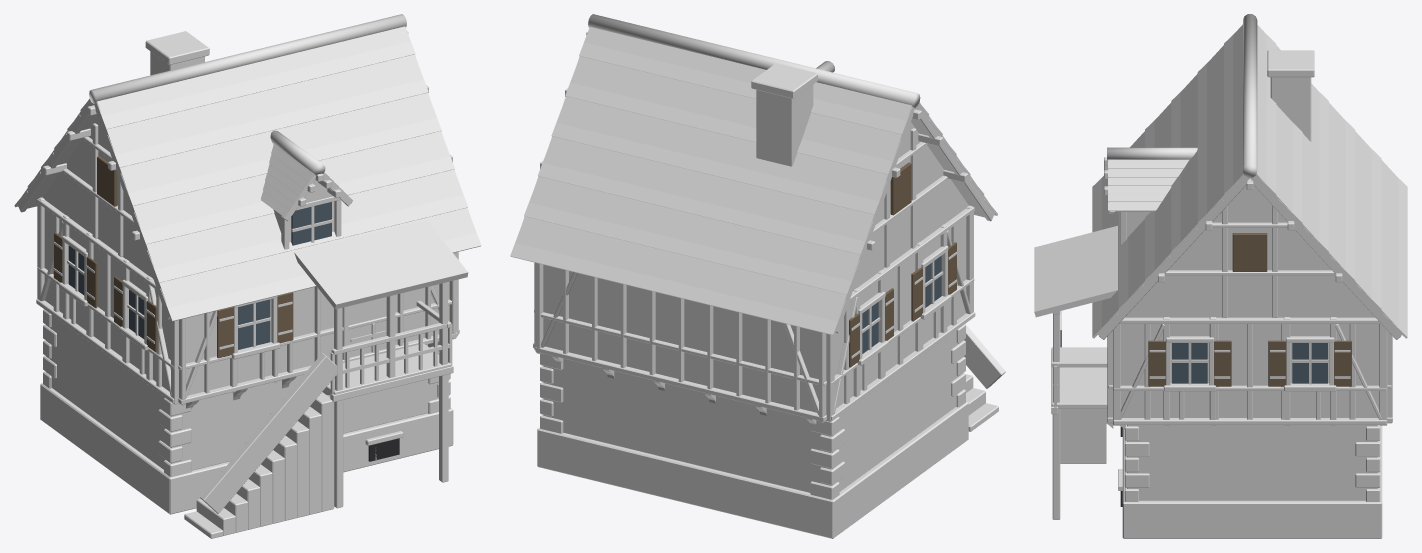
Rendered from ville_23_gouttereau_escalier_pierre.fbx.
3 renders of one model, left to right at view 1: azimuth 30°, elevation 25°; view 2: azimuth 150°, elevation 25°; view 3: azimuth 270°, elevation 25°, orthographic. The views are drawn at different scales.
Visible parts, largest first — view 1: ville_23_gouttereau_escalier_pierre_LOD0; view 2: ville_23_gouttereau_escalier_pierre_LOD0; view 3: ville_23_gouttereau_escalier_pierre_LOD0.
Part boxes in pixels (box(x1,y1,x2,y2)): ville_23_gouttereau_escalier_pierre_LOD0: box(14, 14, 481, 538); ville_23_gouttereau_escalier_pierre_LOD0: box(510, 14, 1005, 538); ville_23_gouttereau_escalier_pierre_LOD0: box(1034, 14, 1407, 538).
Size of what is drawn, in the model's own units: 7.6 by 8.83 by 7.74.
